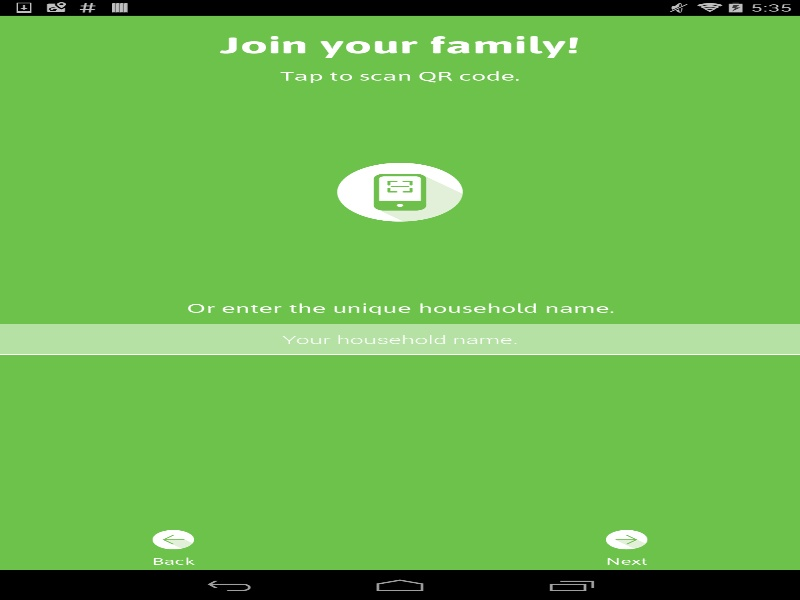Button: (333, 160, 466, 223), (573, 526, 680, 570), (120, 526, 226, 570)
Input: (0, 324, 800, 355)
